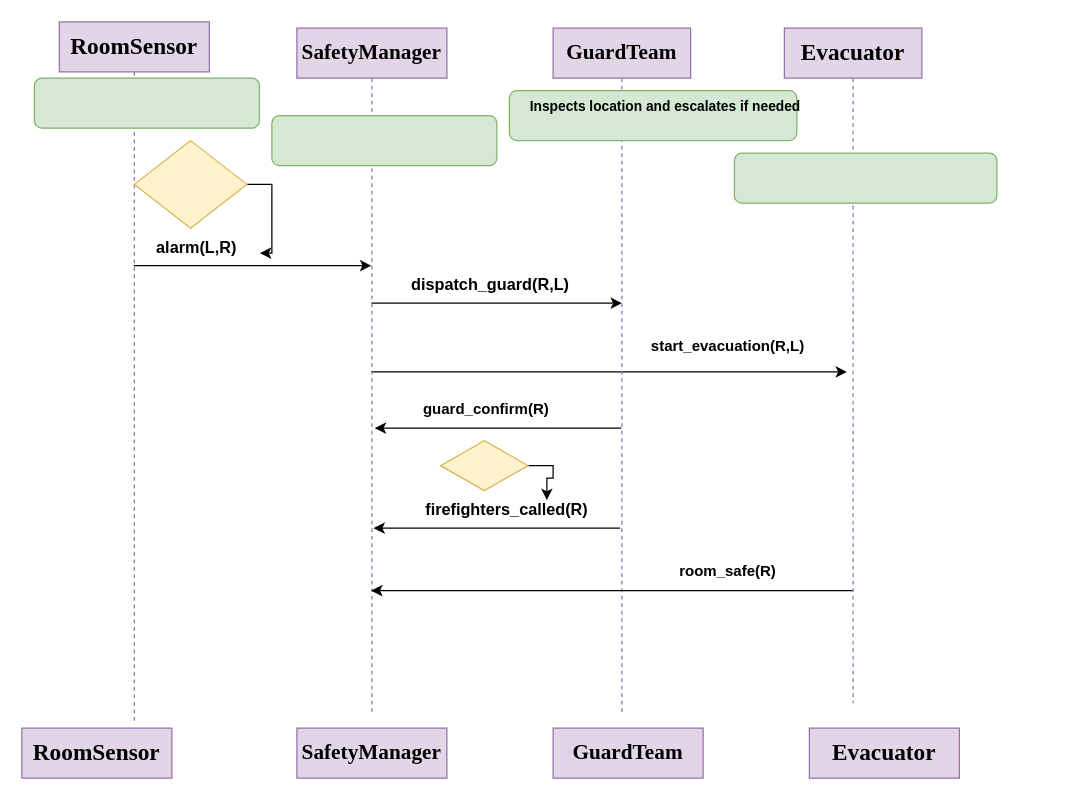
This 1068x800 diagram has some shape labels left out. Each missing label, with the centre of its shape:
"Detects smoke and evaluates threshold" goes at point (146, 102).
"if L ≥ 12" goes at point (483, 465).
"if L> threshold(8)" goes at point (190, 183).
"Manages evacuation procedures" goes at point (865, 177).
"Receives alarms and coordinates actions" goes at point (384, 140).
